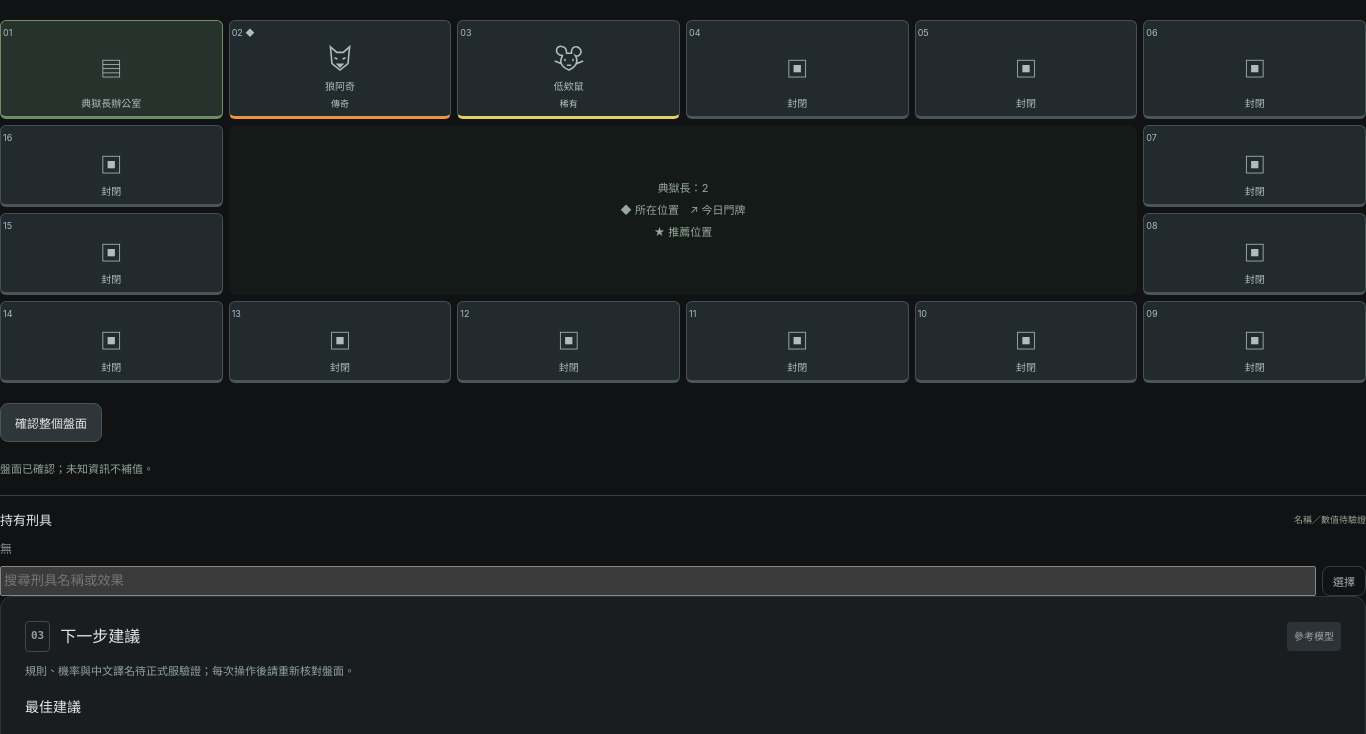
Test case: direct consecutive cell edits invalidate advice until confirmation and office stays special
The width and height of the screenshot is (1366, 734).
Click the button with aria-label "格子 3 囚犯".
click(569, 70)  # box x1=457 y1=20 x2=680 y2=119
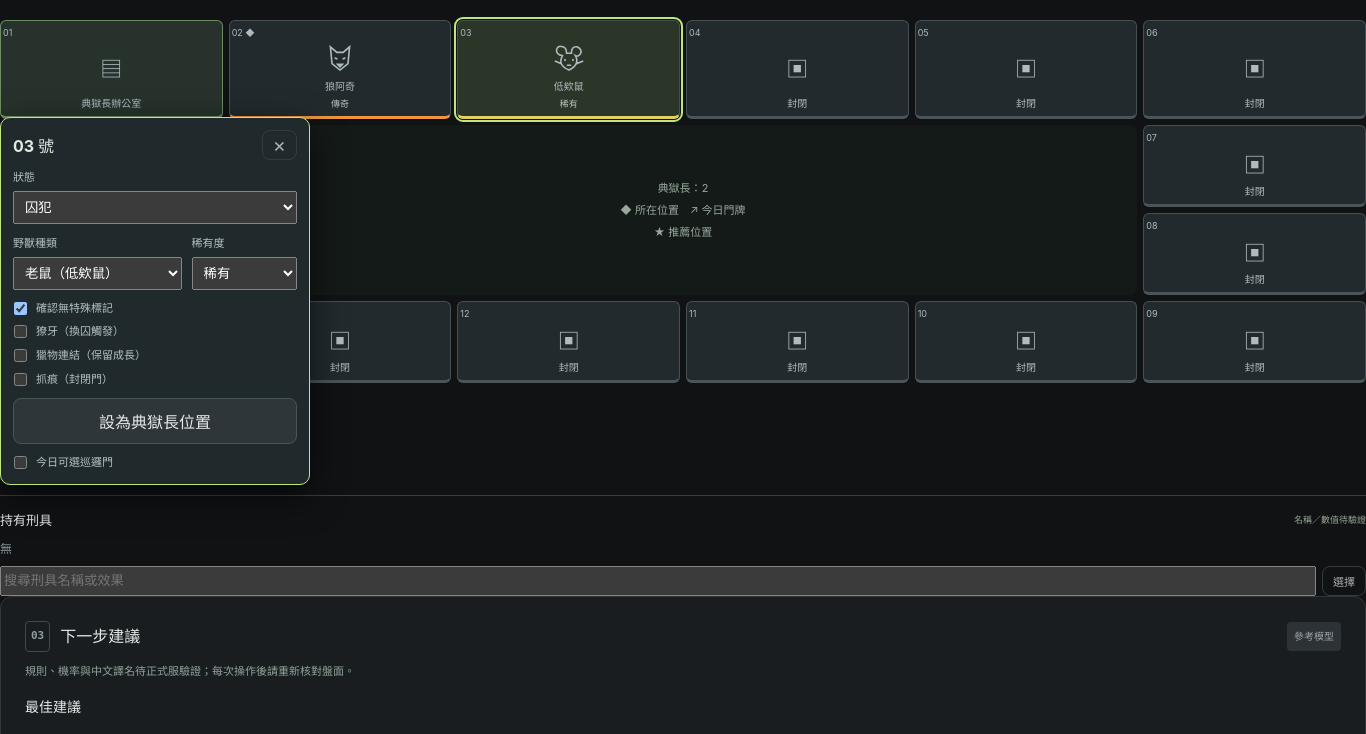
Expected: the dialog named "修正格子 3" is shown, x1=0 y1=117 x2=310 y2=485
Select "傳奇" in the dropdown labelled "稀有度" at (244, 273), box x1=192 y1=257 x2=297 y2=290
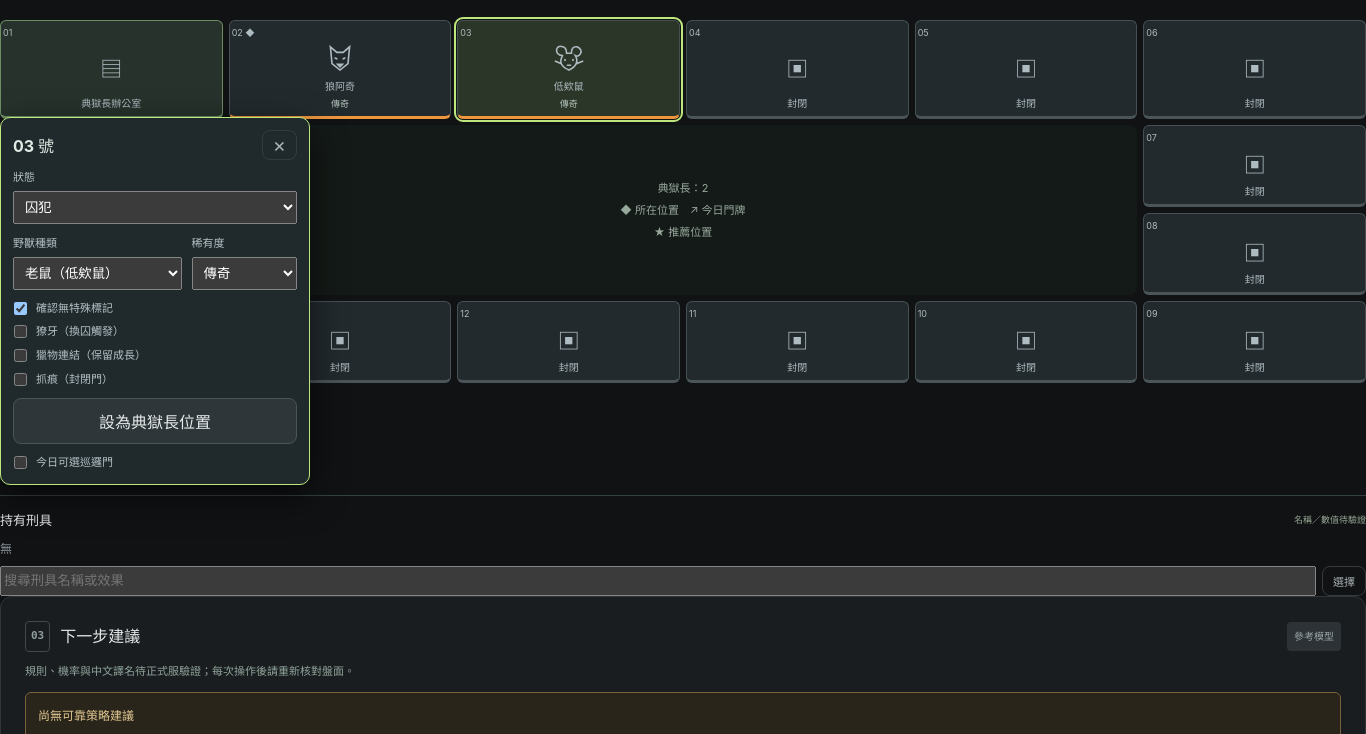
Click the button with aria-label "格子 4 封閉".
click(797, 70)  # box x1=686 y1=20 x2=909 y2=119
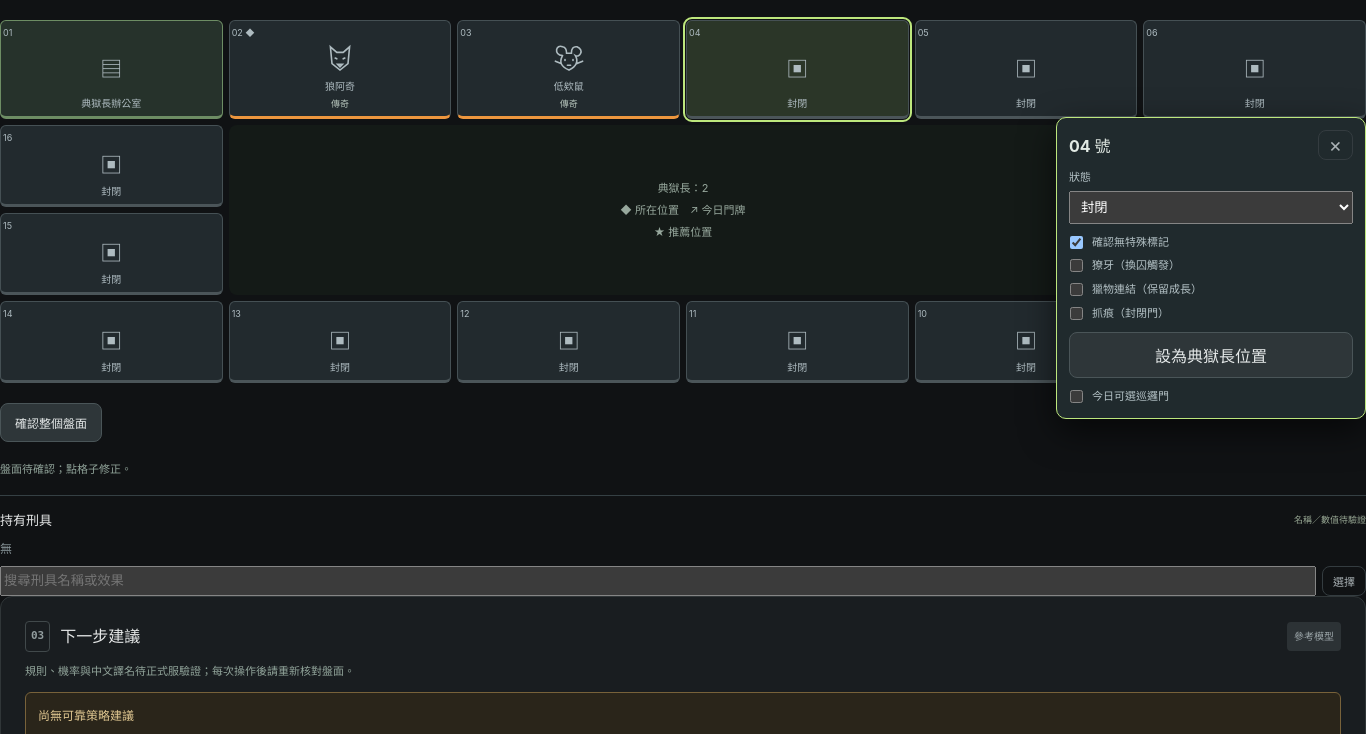
Select "老鼠巢穴" in the dropdown labelled "狀態" at (1211, 207), box x1=1069 y1=191 x2=1353 y2=224
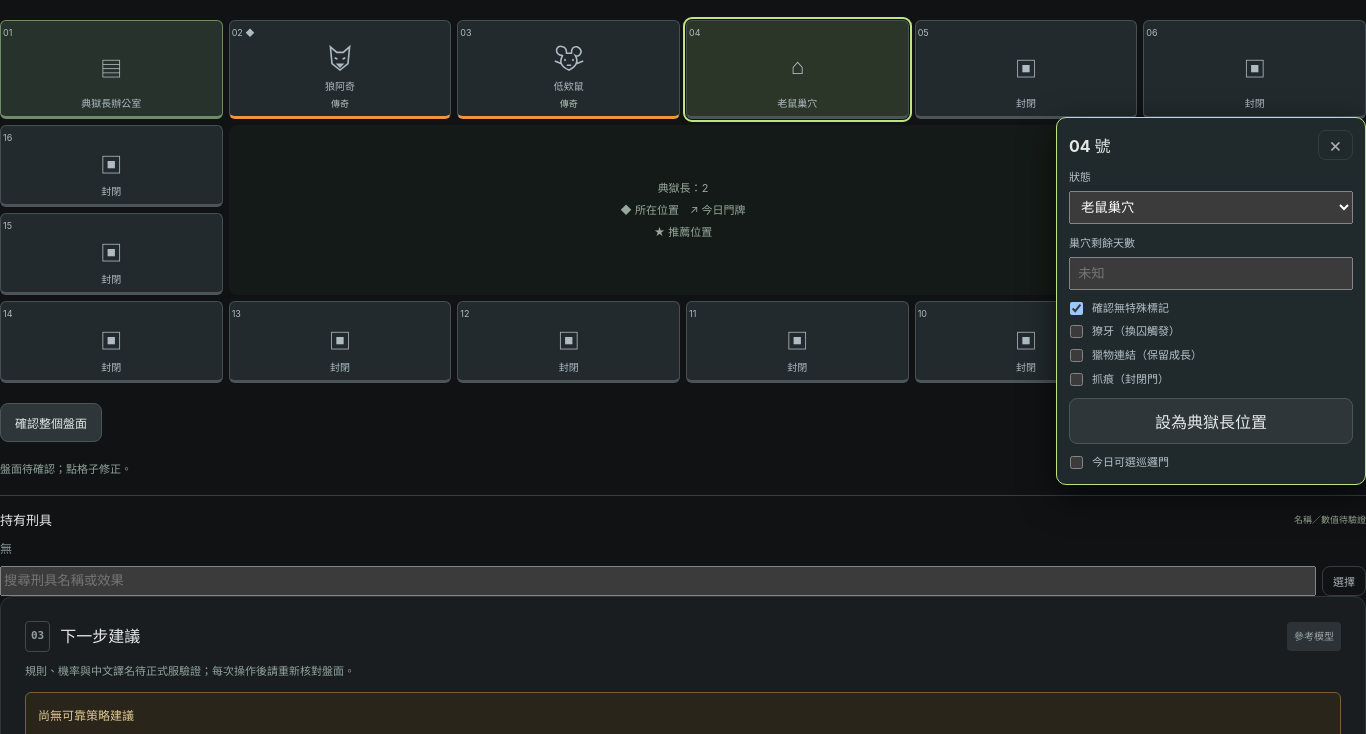
Expected: the button with aria-label "格子 4 老鼠巢穴" is shown, x1=686 y1=20 x2=909 y2=119
Click the button with aria-label "格子 1 典獄長辦公室".
click(111, 70)  # box x1=0 y1=20 x2=223 y2=119
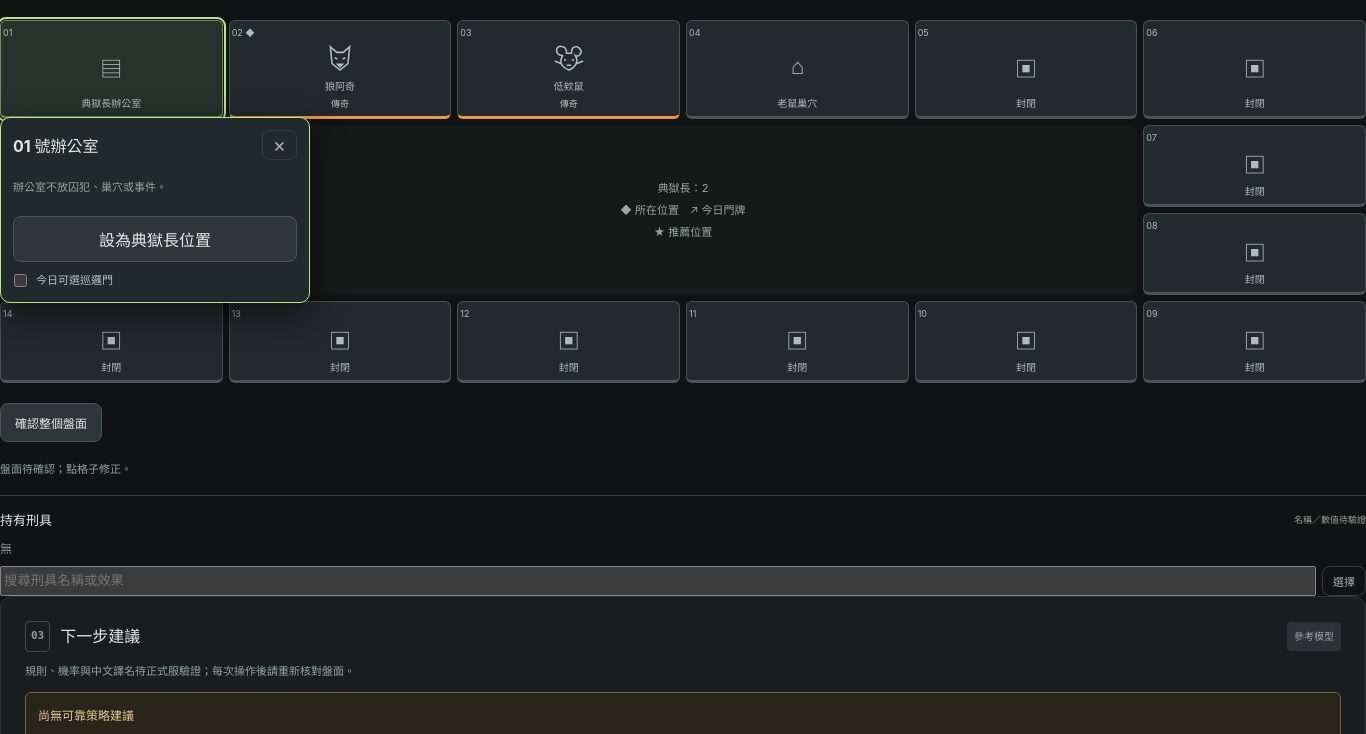
Expected: the label labelled "狀態" is gone
Click the button "確認整個盤面".
click(51, 422)  # box x1=0 y1=403 x2=102 y2=442
(page scrolled)
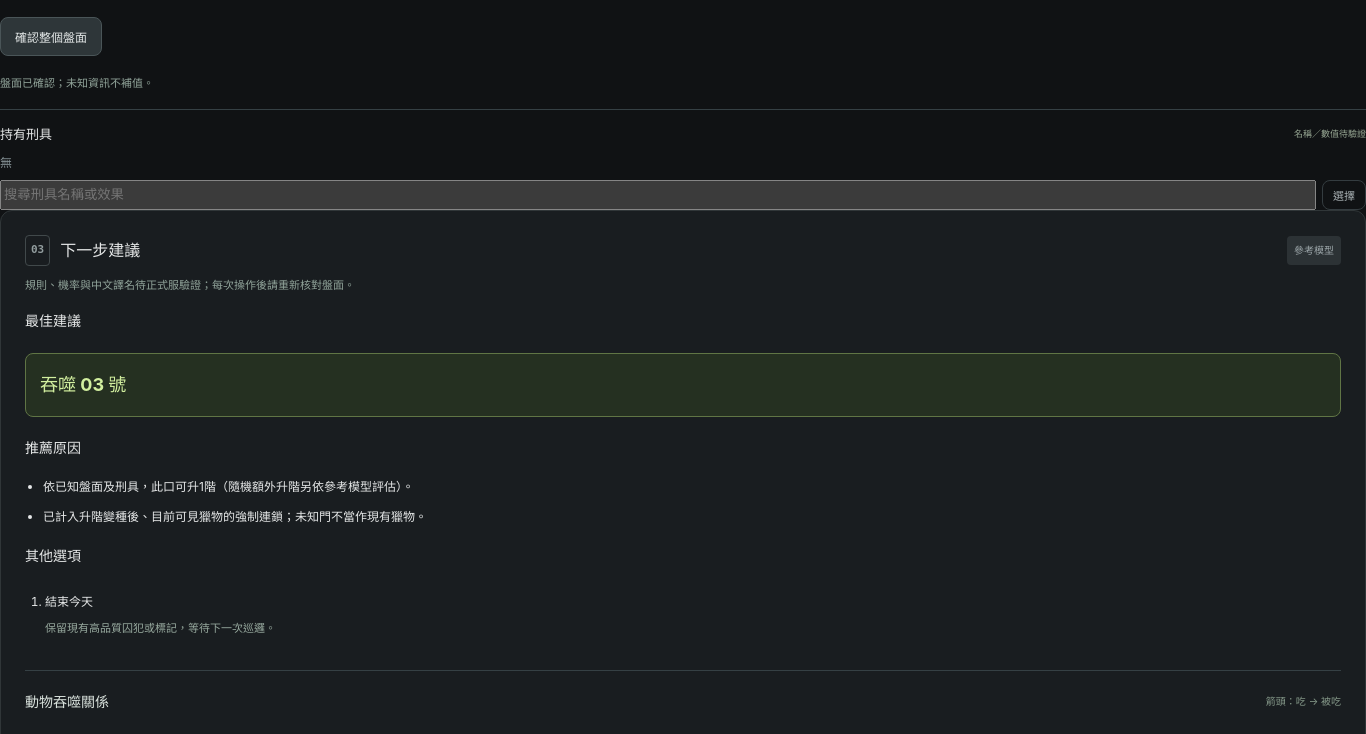
Expected: the text "吞噬 03 號" is shown, x1=25 y1=353 x2=1341 y2=417
